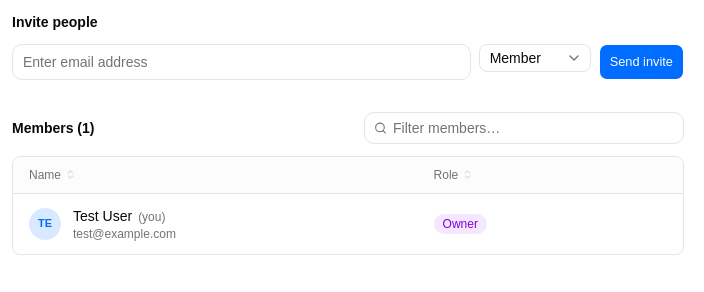
Test: invite section › shows "Email is required" when submitted with an empty email
Check: the text "Test User" is shown, box [73, 208, 132, 224]
Click the button "Send invite".
click(641, 62)  # box [599, 44, 684, 80]
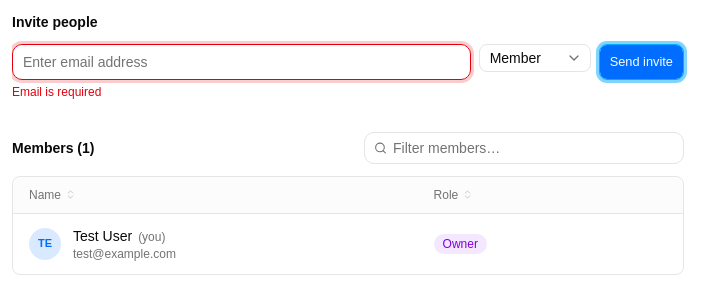
Check: the text "Email is required" is shown, box [12, 85, 101, 99]
